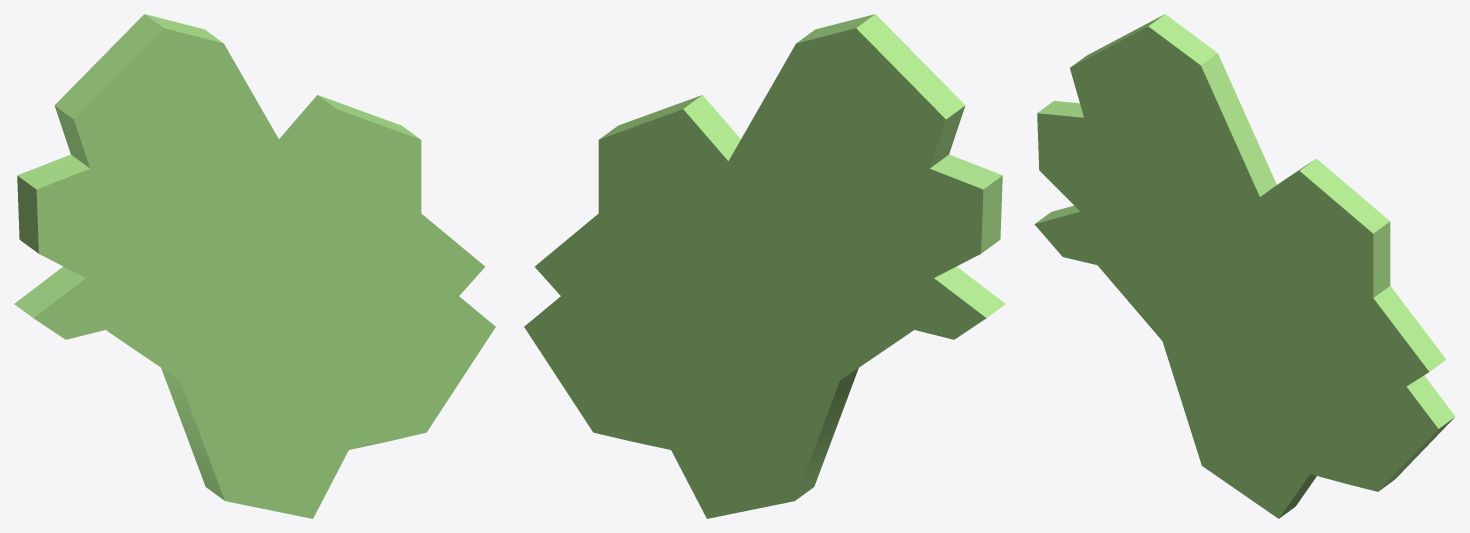
File: san_bernardo.fbx
The picture shows the model from 3 angles, left to right: view 1: azimuth 30°, elevation 25°; view 2: azimuth 150°, elevation 25°; view 3: azimuth 330°, elevation 25°; orthographic projection. The views are drawn at different scales.
Visible parts, largest first — view 1: san_bernardo; view 2: san_bernardo; view 3: san_bernardo.
Part boxes in pixels (<box>): san_bernardo: <box>14,14,495,518</box>; san_bernardo: <box>524,14,1005,518</box>; san_bernardo: <box>1034,14,1455,518</box>.
Bounding box in the file's own units: 110 × 120 × 8.
